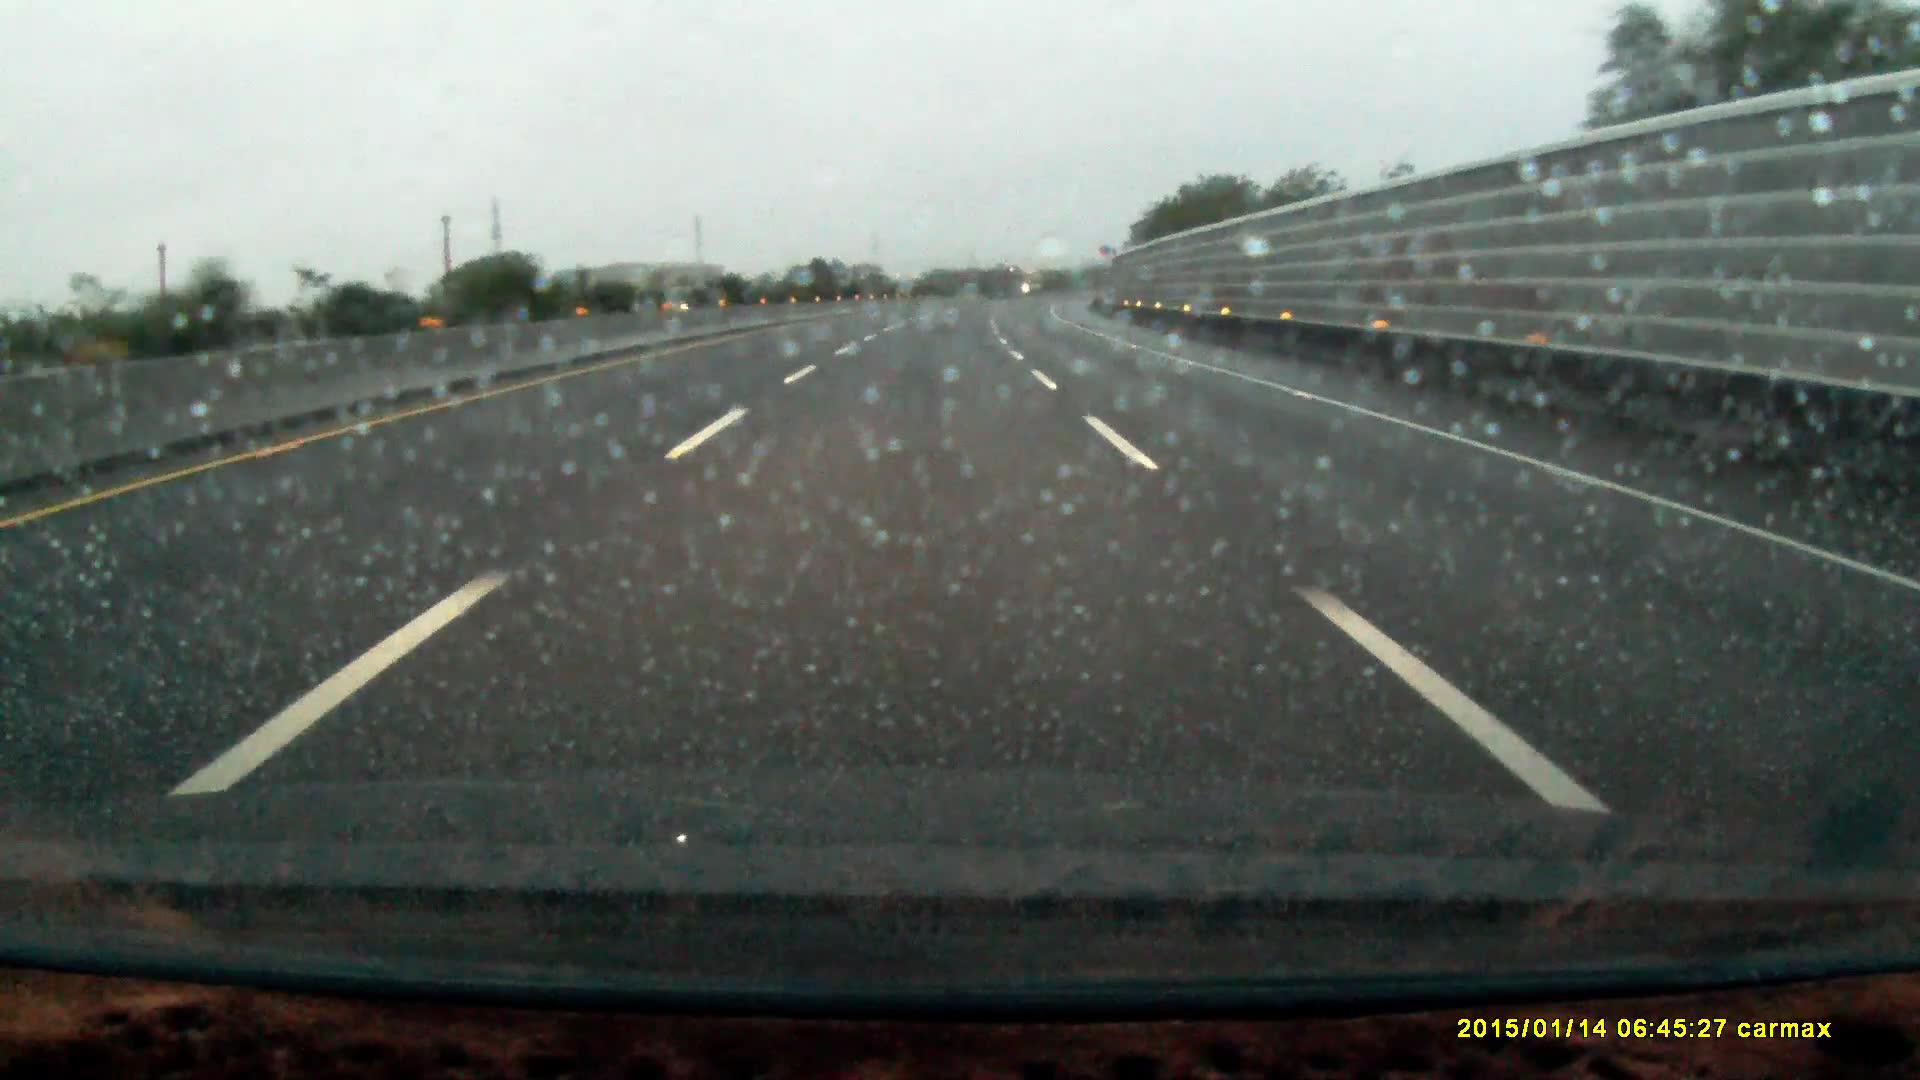vehicle: (649, 287, 713, 311)
